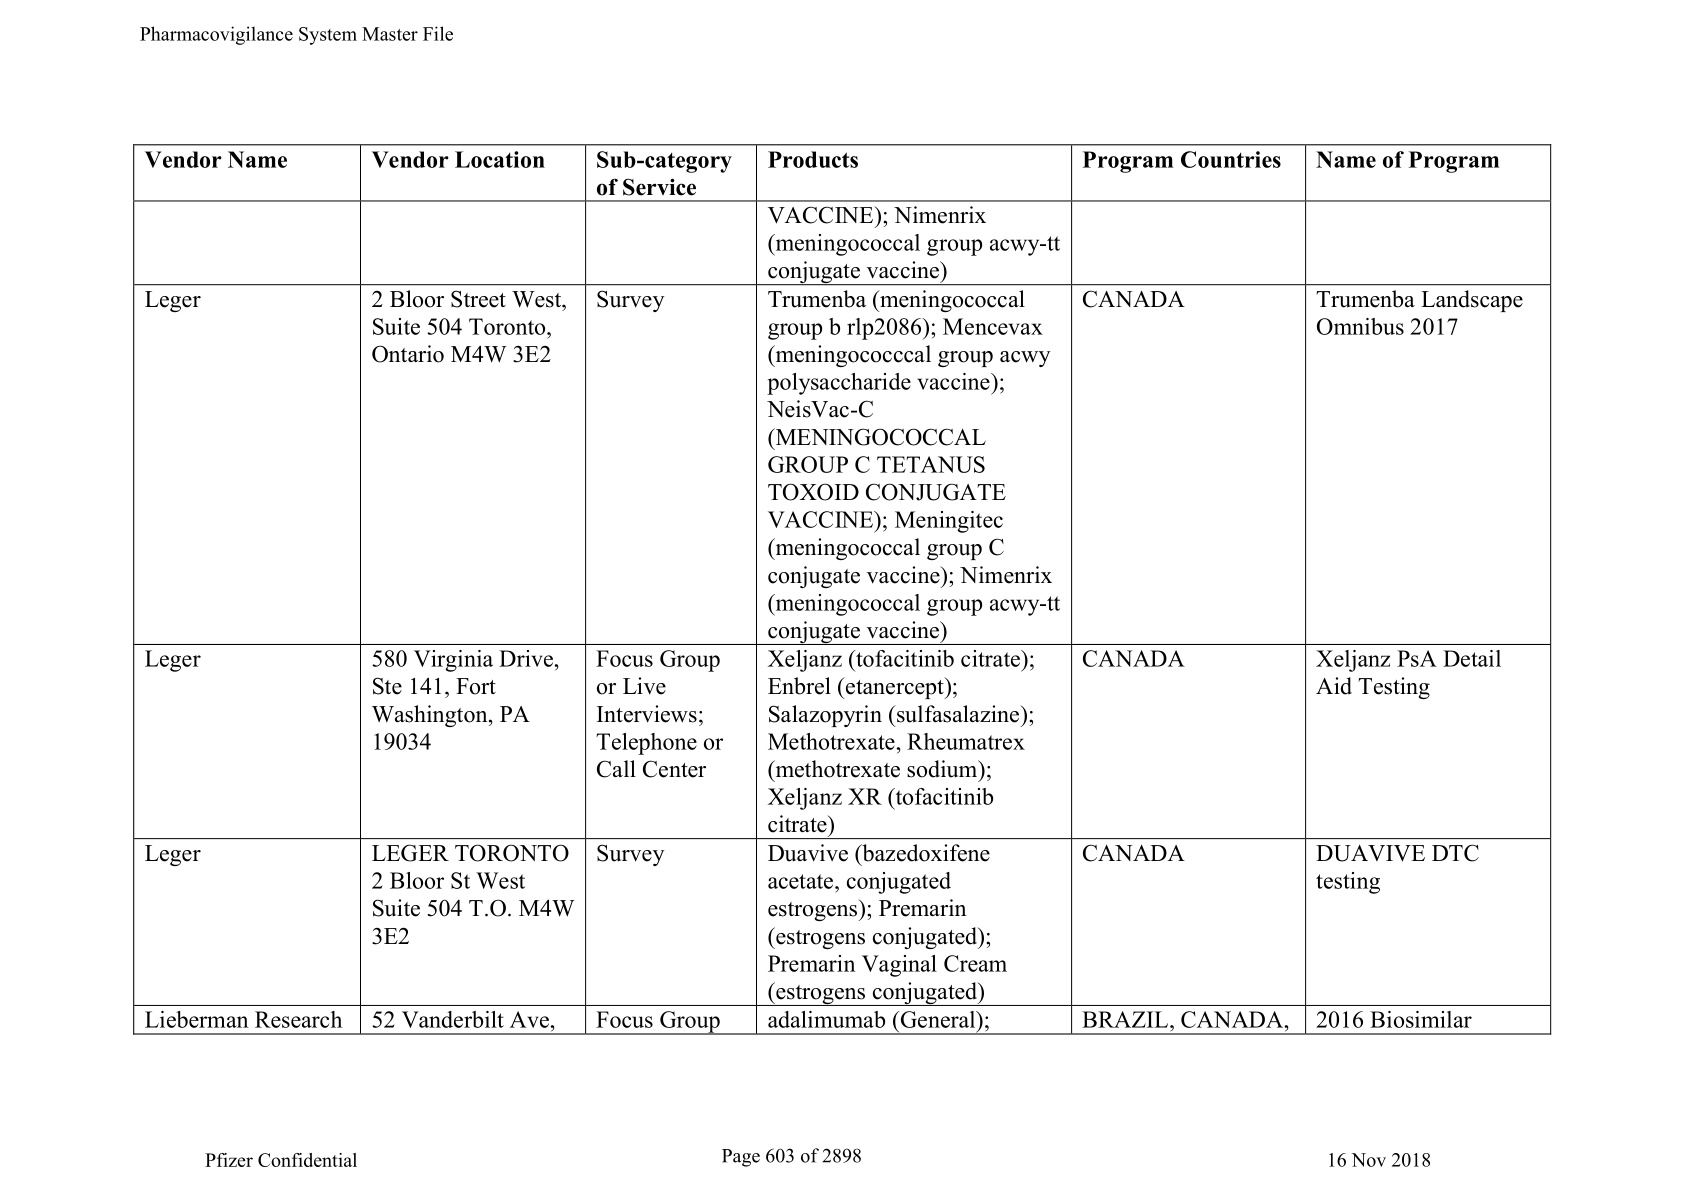full_lined: (125, 137, 1559, 1045)
